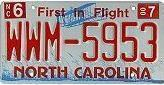placa de veiculo: (1, 0, 162, 82)
